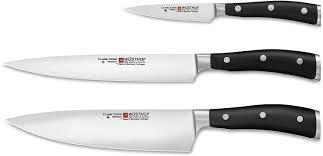Knife: (4, 103, 320, 152), (2, 48, 321, 82), (122, 0, 321, 26)
